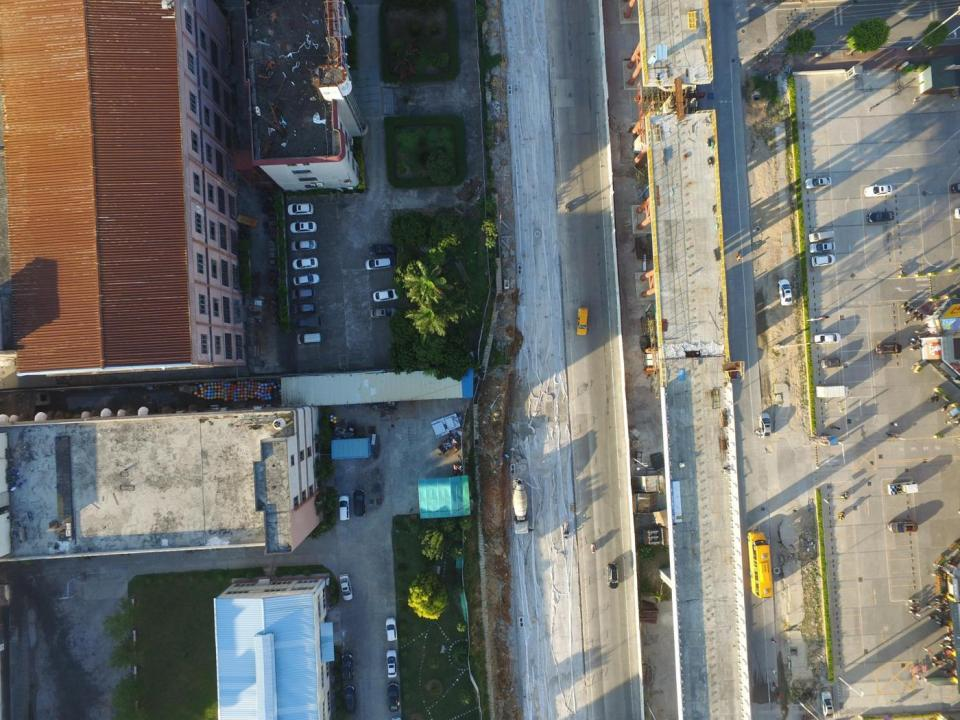bus: (745, 529, 773, 600)
car: (886, 520, 918, 535), (338, 572, 354, 602), (864, 183, 893, 198), (385, 681, 399, 712), (290, 218, 317, 234), (805, 174, 832, 190), (291, 272, 321, 286), (777, 278, 791, 308), (813, 332, 843, 346), (868, 208, 894, 224), (575, 306, 589, 335), (352, 488, 366, 517), (370, 306, 398, 320), (606, 562, 620, 590), (343, 684, 356, 714), (287, 202, 314, 216), (369, 242, 396, 256), (290, 239, 318, 252), (291, 257, 319, 270), (372, 288, 398, 302), (810, 240, 836, 254), (759, 411, 772, 439), (821, 690, 834, 718), (875, 342, 902, 355), (811, 253, 836, 267), (338, 494, 350, 523), (384, 617, 398, 641), (342, 652, 353, 682), (290, 288, 315, 300), (821, 356, 844, 369), (386, 649, 396, 678), (292, 302, 316, 314), (295, 316, 321, 327)
truck: (510, 476, 530, 535), (885, 480, 919, 497), (816, 384, 848, 397)
van: (296, 331, 323, 346), (365, 256, 392, 270), (809, 230, 835, 241)
